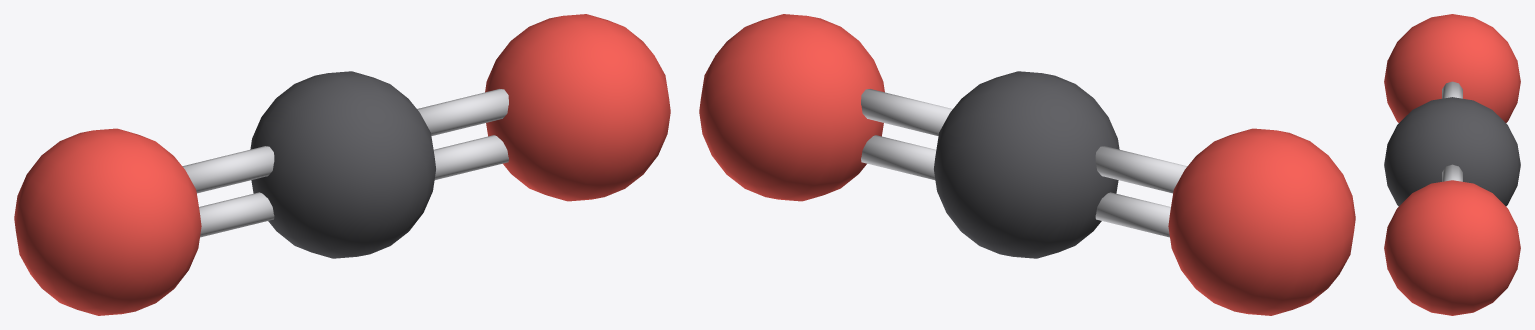
Rendered from Mol_CO2_DioxidoCarbono.glb.
The picture shows the model from 3 angles, left to right: view 1: azimuth 30°, elevation 25°; view 2: azimuth 150°, elevation 25°; view 3: azimuth 270°, elevation 25°; orthographic projection. The views are drawn at different scales.
Visible parts, largest first — view 1: CO2_O2, CO2_O1, CO2_C, CO2_Enlace_2, CO2_Enlace_1; view 2: CO2_O2, CO2_O1, CO2_C, CO2_Enlace_2, CO2_Enlace_1; view 3: CO2_O1, CO2_O2, CO2_C, CO2_Enlace_2, CO2_Enlace_1.
Part boxes in pixels (x1,y1,x2,y2): CO2_O2: [14, 128, 201, 315]; CO2_O1: [485, 14, 670, 201]; CO2_C: [250, 71, 435, 258]; CO2_Enlace_2: [182, 146, 274, 237]; CO2_Enlace_1: [417, 89, 508, 179]; CO2_O2: [1168, 128, 1355, 315]; CO2_O1: [699, 14, 884, 201]; CO2_C: [934, 71, 1119, 258]; CO2_Enlace_2: [1095, 146, 1187, 237]; CO2_Enlace_1: [861, 89, 952, 179]; CO2_O1: [1384, 180, 1520, 315]; CO2_O2: [1384, 14, 1520, 122]; CO2_C: [1384, 97, 1520, 206]; CO2_Enlace_2: [1442, 81, 1462, 98]; CO2_Enlace_1: [1442, 164, 1462, 181].
Size of the model in its own units: 0.124 by 0.032 by 0.032.
